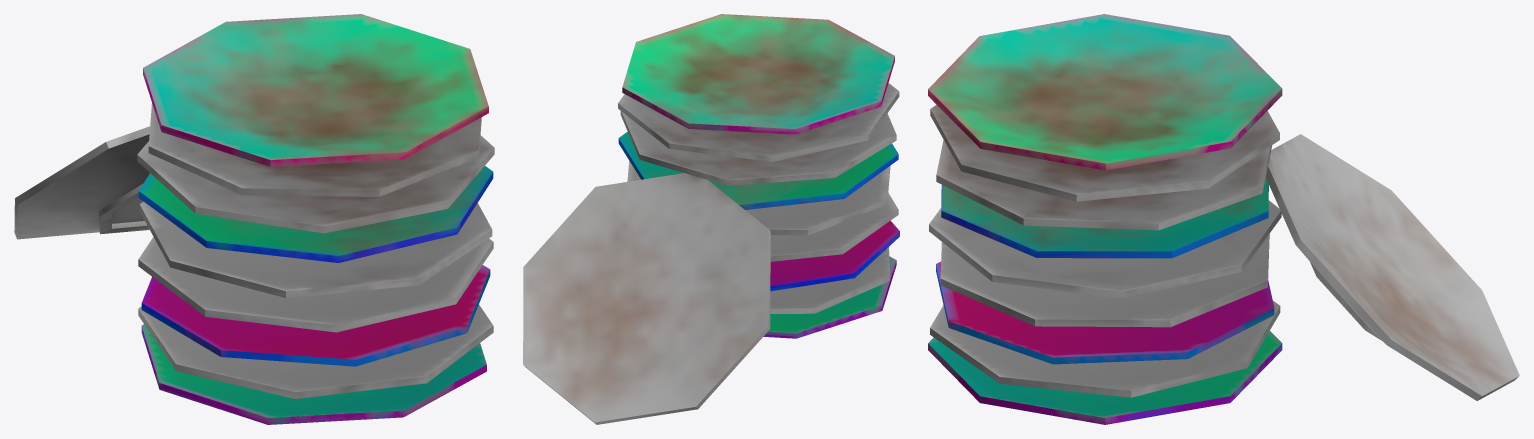
File: PROP_087_PlateStack.fbx
3 renders of one model, left to right at view 1: azimuth 30°, elevation 25°; view 2: azimuth 150°, elevation 25°; view 3: azimuth 270°, elevation 25°, orthographic. The views are drawn at different scales.
Visible parts, largest first — view 1: Circle_016; view 2: Circle_016; view 3: Circle_016.
Part boxes in pixels (<box>): Circle_016: <box>14,14,494,424</box>; Circle_016: <box>523,14,899,424</box>; Circle_016: <box>928,14,1519,424</box>.
Size of the model in its own units: 0.2241 by 0.2032 by 0.3723.
1 material, 1 textured.
